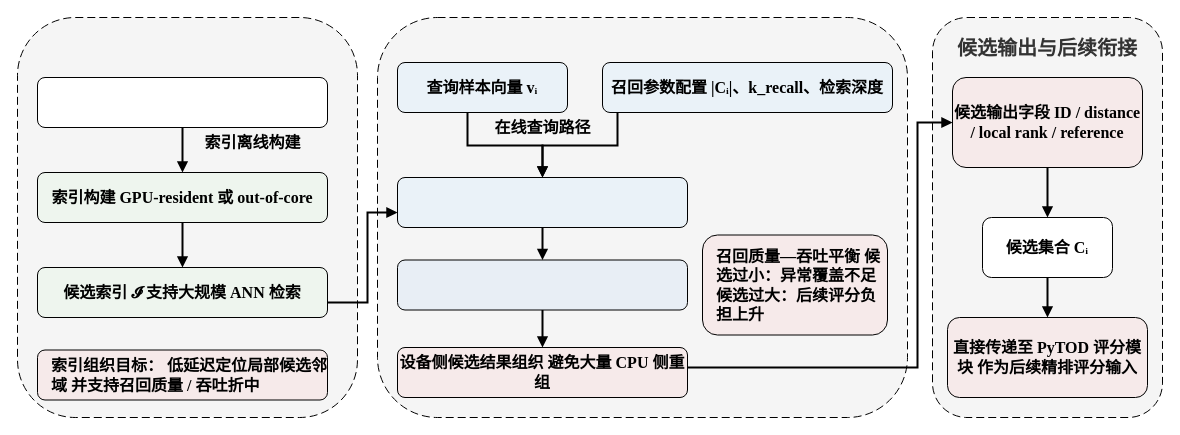
Some shapes in this 1180 by 435 pixel diagram are drawn without their labels. The box of each missing label's shape, as (x1, y1, x2, y2) in pixels:
FlashANNS 候选召回执行 异步 I/O—计算流水线: (396, 176, 688, 228)
在线候选召回执行: (376, 16, 908, 418)
局部候选扩展与维护 距离计算 / 候选筛选 / 邻域更新: (396, 259, 688, 310)
离线准备: (16, 16, 358, 418)
统一向量化样本库 {v₁, v₂, …, vₙ}: (36, 76, 328, 128)
